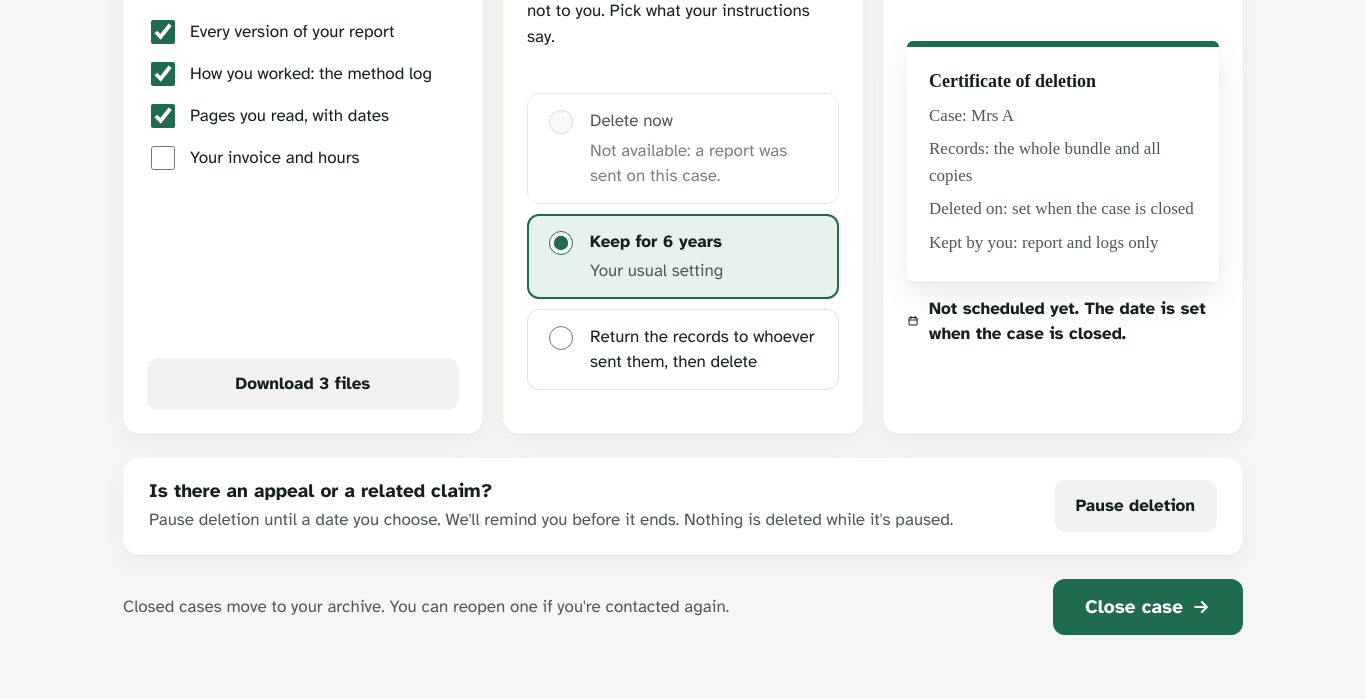
a refused step shows plain words, never the code
(page scrolled)
Click the button "Close case": (1148, 607) [1053,579,1243,635]
(page scrolled)
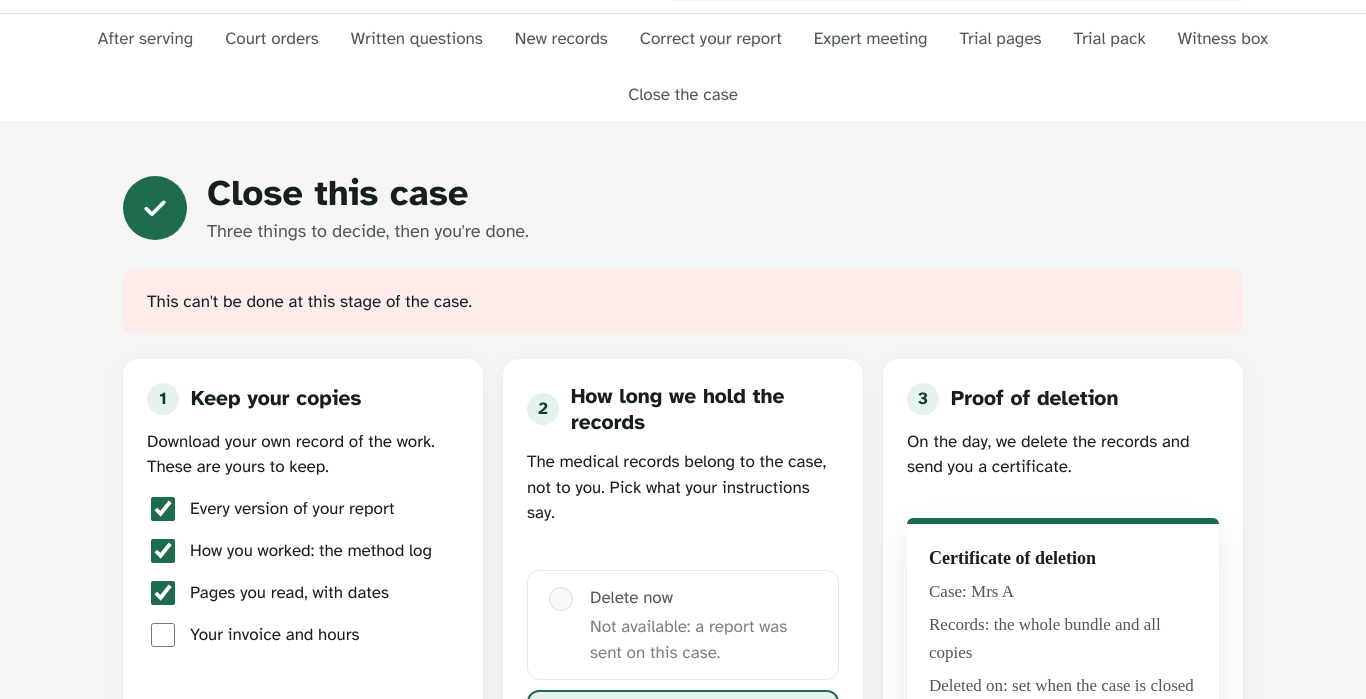
expect the text "This can't be done at this stage of the case." is shown: met, box [147,291,472,312]
